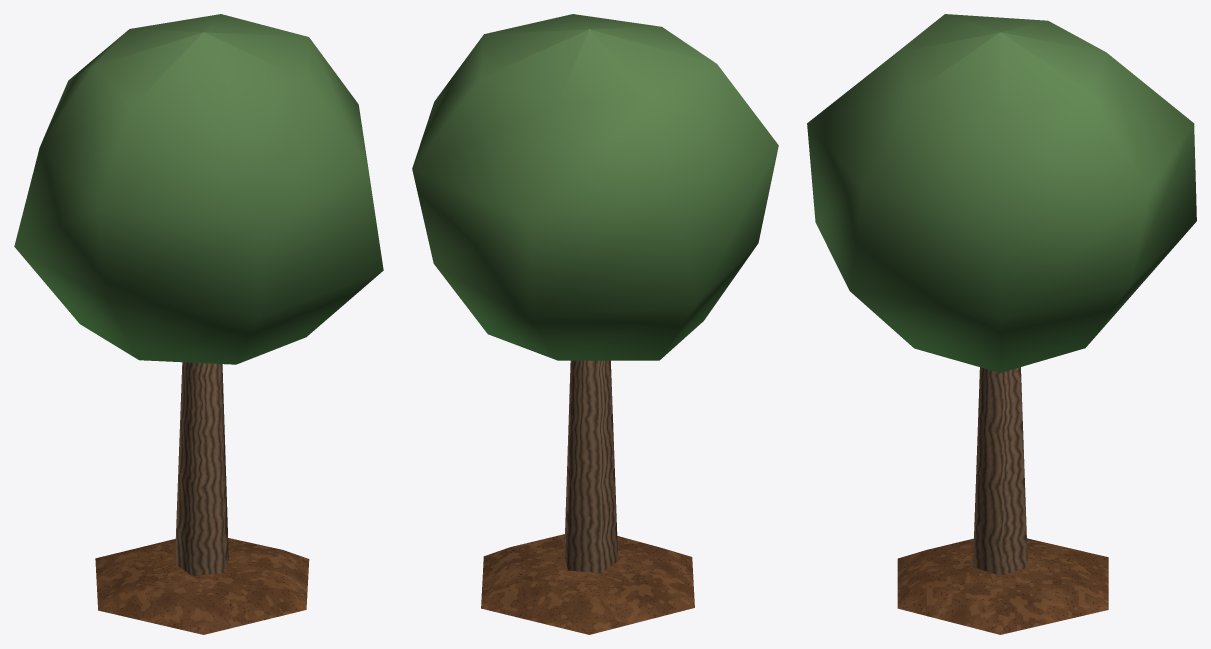
File: plant-apple-4-far.glb
3 views of the same model, side by side, from view 1: azimuth 30°, elevation 25°; view 2: azimuth 150°, elevation 25°; view 3: azimuth 270°, elevation 25° (orthographic).
Visible parts, largest first — view 1: plant-apple-4-far; view 2: plant-apple-4-far; view 3: plant-apple-4-far.
Boxes of the visible parts, x1,y1,x2,y2 form: plant-apple-4-far: (14, 14, 383, 634); plant-apple-4-far: (412, 14, 778, 634); plant-apple-4-far: (807, 14, 1196, 634).
Size of the model in its own units: 1.47 by 2.5 by 1.6.
Materials: 3 (2 with a texture image).
